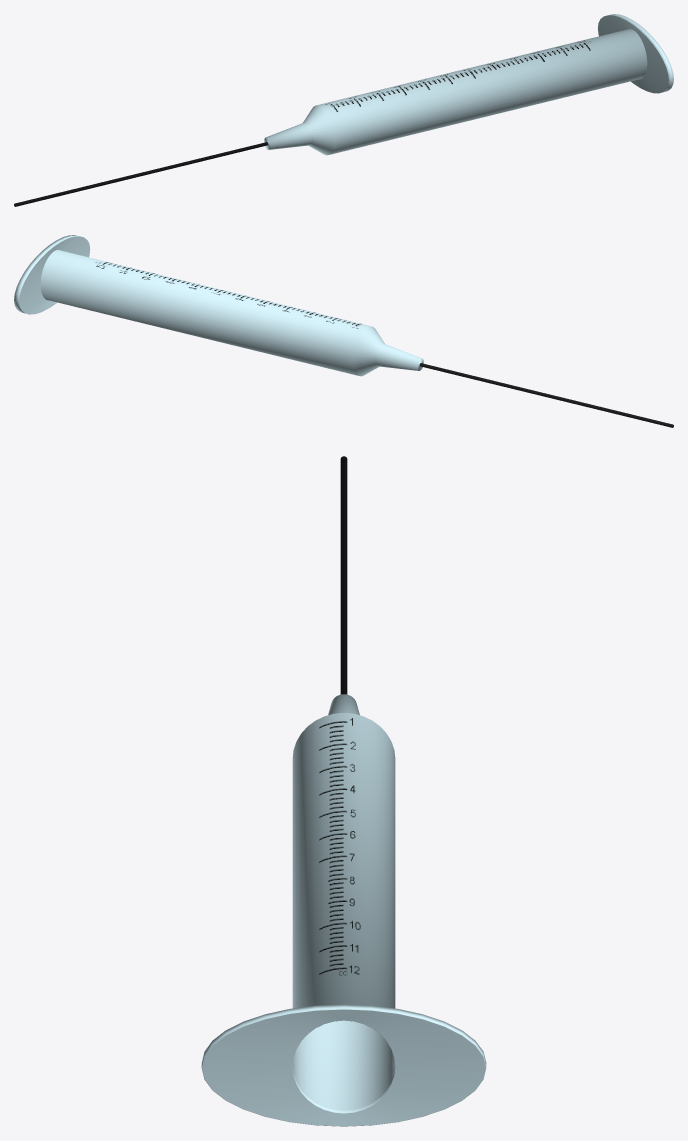
Rendered from Syringe_Base.obj.
The picture shows the model from 3 angles, top to bottom: view 1: azimuth 30°, elevation 25°; view 2: azimuth 150°, elevation 25°; view 3: azimuth 270°, elevation 25°; orthographic projection. The views are drawn at different scales.
Parts seen in each view (by area): view 1: Cylinder.001_Cylinder.002; view 2: Cylinder.001_Cylinder.002; view 3: Cylinder.001_Cylinder.002.
Part boxes in pixels (left/top/right/bottom): Cylinder.001_Cylinder.002: left=14, top=14, right=673, bottom=206; Cylinder.001_Cylinder.002: left=14, top=235, right=673, bottom=427; Cylinder.001_Cylinder.002: left=201, top=456, right=486, bottom=1126.
Size of the model in its own units: 0.1399 by 0.0126 by 0.0277.
Materials: 1 (1 with a texture image).
